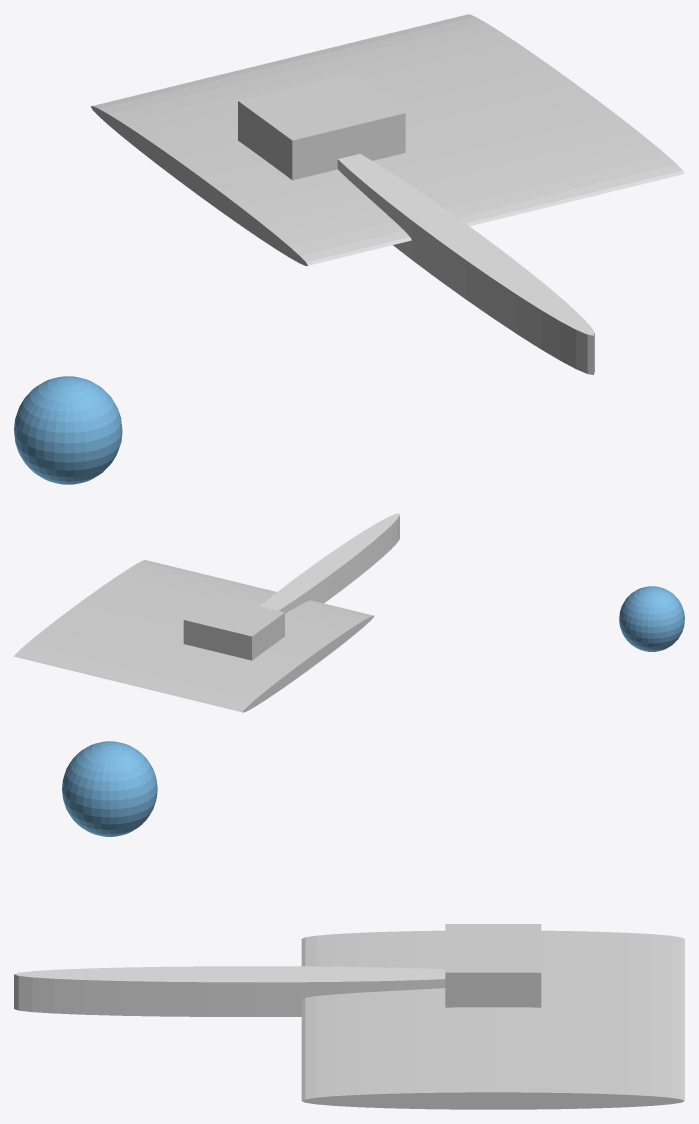
Rendered from eolienne_vitesse_v1.glb.
3 views of the same model, one above another, from view 1: azimuth 30°, elevation 25°; view 2: azimuth 150°, elevation 25°; view 3: azimuth 270°, elevation 25° (orthographic). The views are drawn at different scales.
Parts seen in each view (by area): view 1: rotor_assembly, mast, nacelle, wind_control; view 2: rotor_assembly, mast, nacelle, wind_control; view 3: rotor_assembly, mast, nacelle, wind_control.
Boxes of the visible parts, <box> form: rotor_assembly: <box>90,14,684,265</box>; mast: <box>337,154,594,374</box>; nacelle: <box>238,73,405,180</box>; wind_control: <box>14,376,122,484</box>; rotor_assembly: <box>14,560,374,712</box>; mast: <box>260,513,399,613</box>; nacelle: <box>183,595,284,660</box>; wind_control: <box>619,586,684,651</box>; rotor_assembly: <box>301,930,684,1109</box>; mast: <box>14,966,445,1016</box>; nacelle: <box>445,924,541,1007</box>; wind_control: <box>62,741,157,836</box>.
Size of what is drawn, in the model's own units: 8.2 by 1 by 7.
